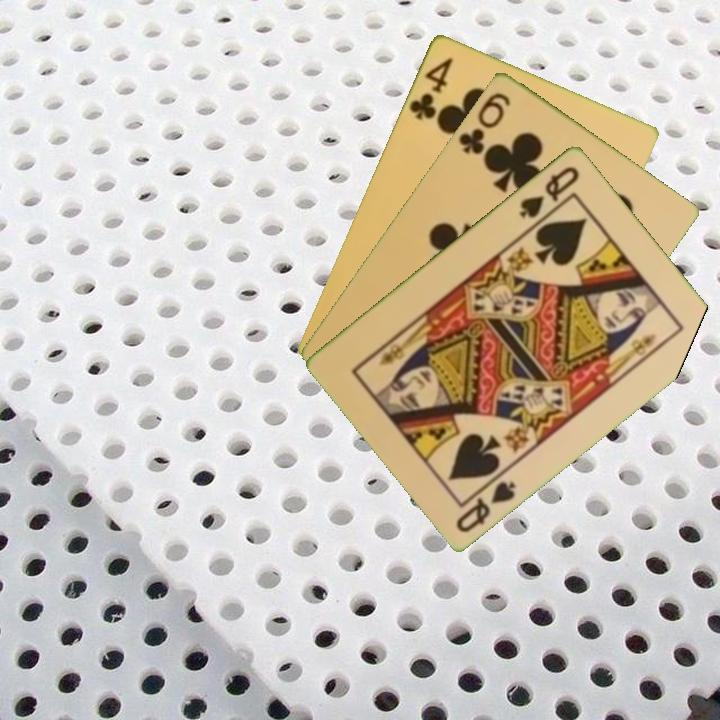4c: (405, 53, 456, 123)
6c: (454, 88, 514, 157)
Qs: (452, 467, 519, 535), (515, 161, 583, 221)
